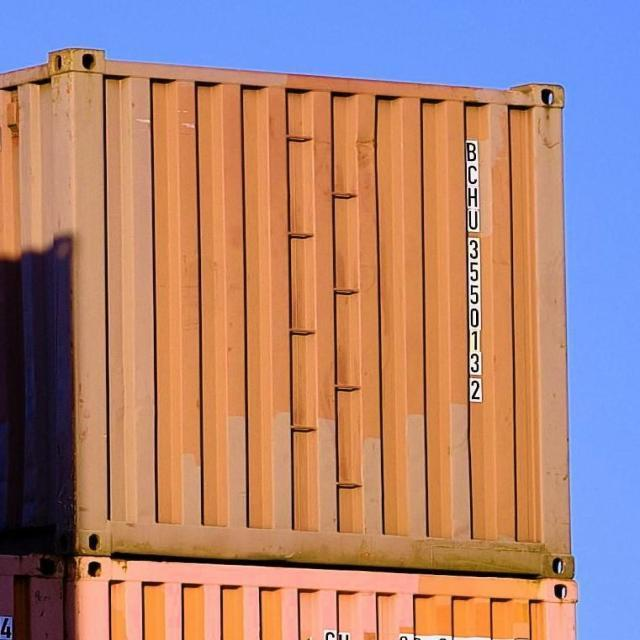container_number: (462, 134, 485, 408)
